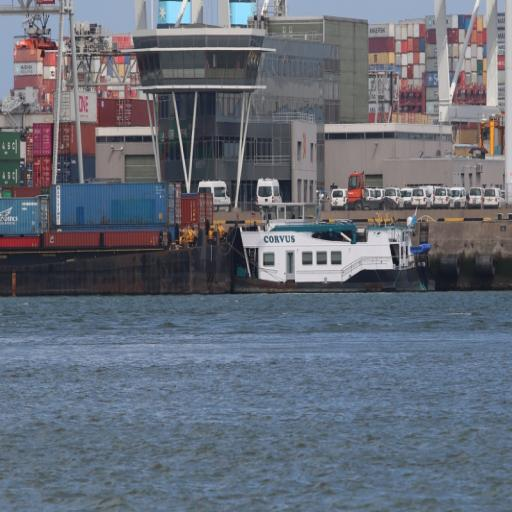tugboat: (198, 199, 443, 303)
